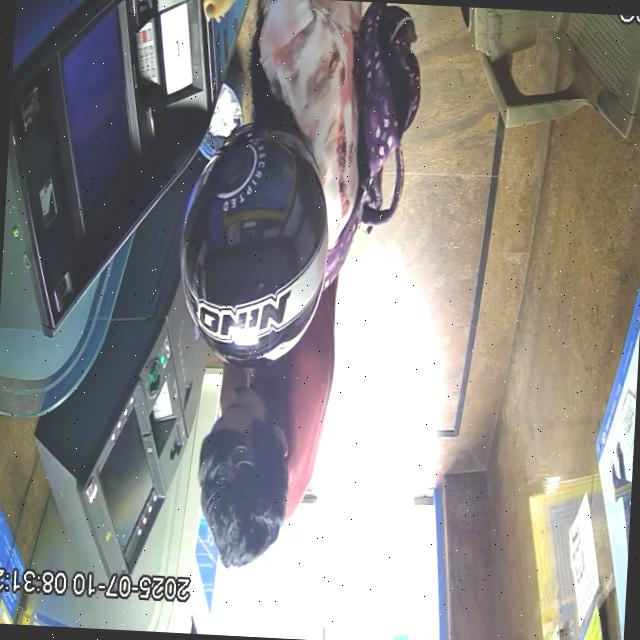helmet: (178, 118, 328, 369)
no_helmet: (198, 384, 290, 569)
